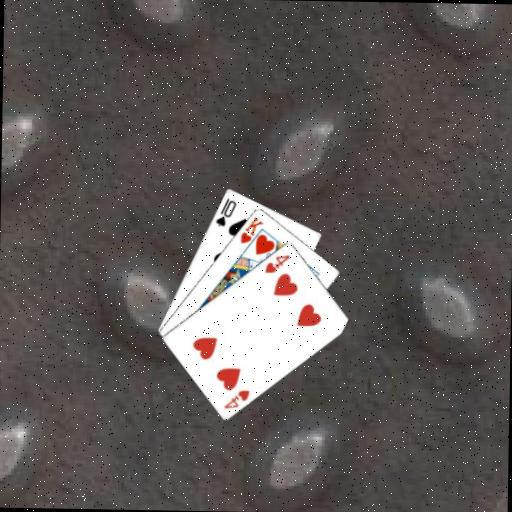10S: (213, 194, 239, 228)
4H: (221, 385, 251, 410), (262, 252, 292, 276)
KH: (237, 214, 265, 246)
